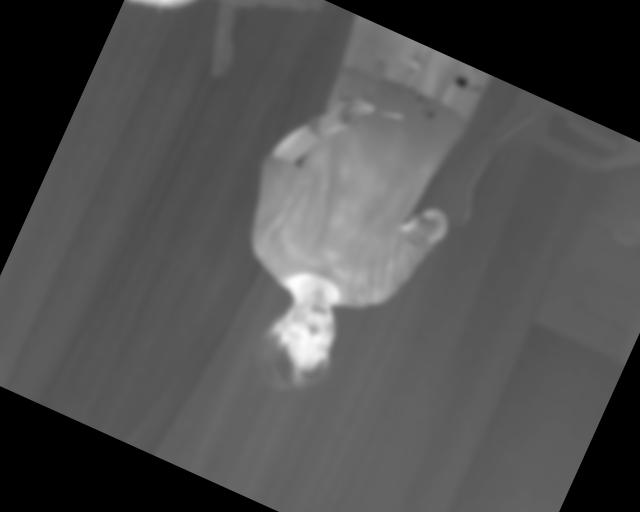face: (247, 279, 356, 403)
